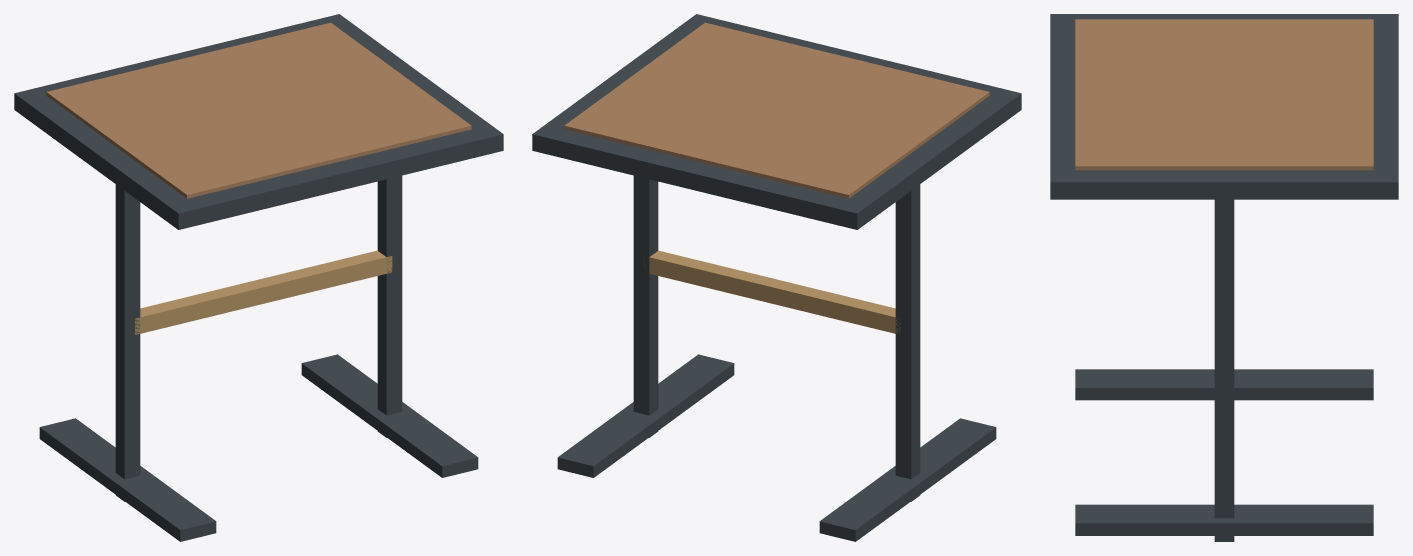
Rendered from side_table_steel.glb.
3 renders of one model, left to right at view 1: azimuth 30°, elevation 25°; view 2: azimuth 150°, elevation 25°; view 3: azimuth 270°, elevation 25°, orthographic. The views are drawn at different scales.
Visible parts, largest first — view 1: TopInlay, SteelTop, SteelLeg, SteelFoot, _MeshInstance3D_6, CrossBrace, _MeshInstance3D_5; view 2: TopInlay, SteelTop, SteelLeg, SteelFoot, _MeshInstance3D_6, CrossBrace, _MeshInstance3D_5; view 3: TopInlay, SteelTop, _MeshInstance3D_6, SteelFoot, _MeshInstance3D_5.
Part boxes in pixels (x1,y1,x2,y2): TopInlay: (46,22,471,198); SteelTop: (14,14,503,229); SteelLeg: (115,184,140,501); SteelFoot: (39,418,216,541); _MeshInstance3D_6: (301,354,478,477); CrossBrace: (135,250,392,334); _MeshInstance3D_5: (377,175,402,437); TopInlay: (564,22,989,198); SteelTop: (532,14,1021,229); SteelLeg: (895,184,920,501); SteelFoot: (819,418,996,541); _MeshInstance3D_6: (557,354,734,477); CrossBrace: (643,250,900,334); _MeshInstance3D_5: (633,175,658,437); TopInlay: (1075,19,1373,170); SteelTop: (1050,14,1398,199); _MeshInstance3D_6: (1075,504,1373,535); SteelFoot: (1075,369,1373,400); _MeshInstance3D_5: (1214,199,1234,541).
Size of the model in its own units: 0.72 by 0.753 by 0.63.
